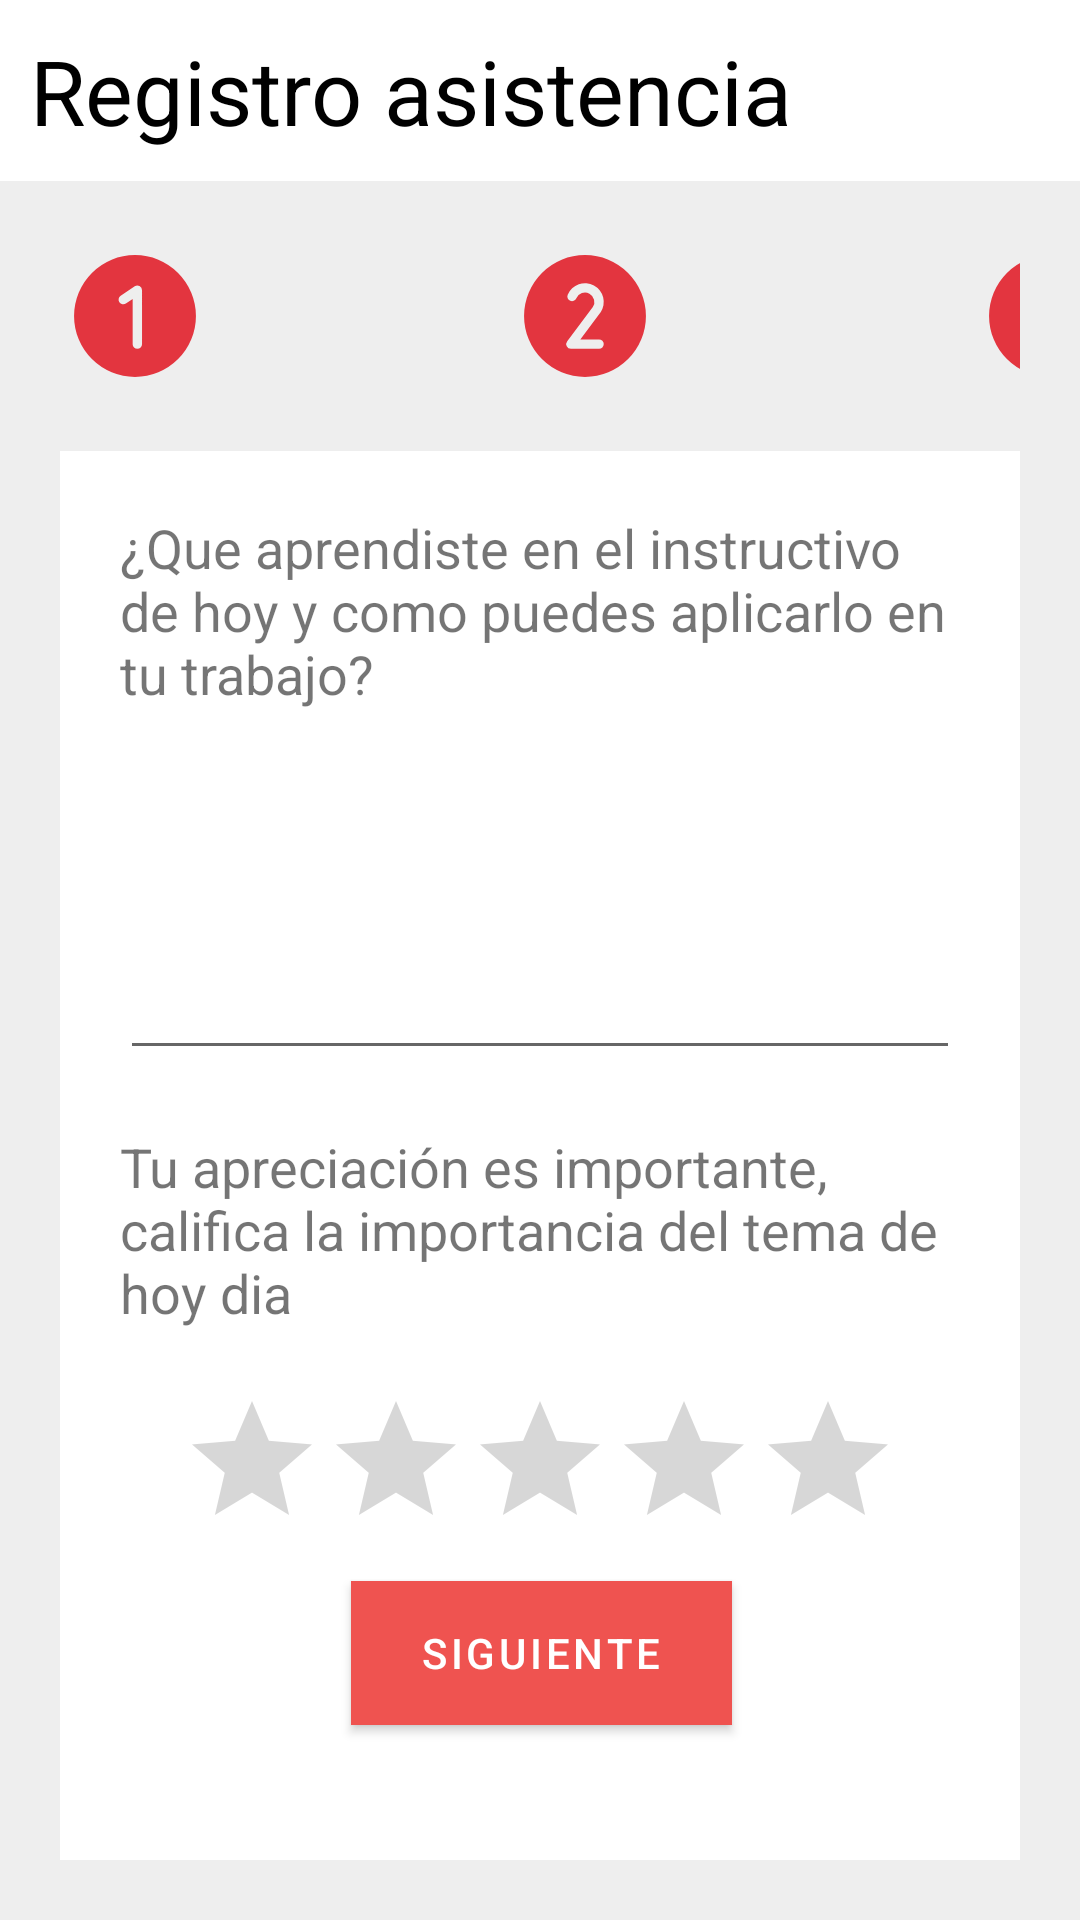

Where to tap for icons on this 1080w x 1920h app screen, as (x=x, y=y):
numberoneback: (x=135, y=316)
numbertwo: (x=585, y=316)
